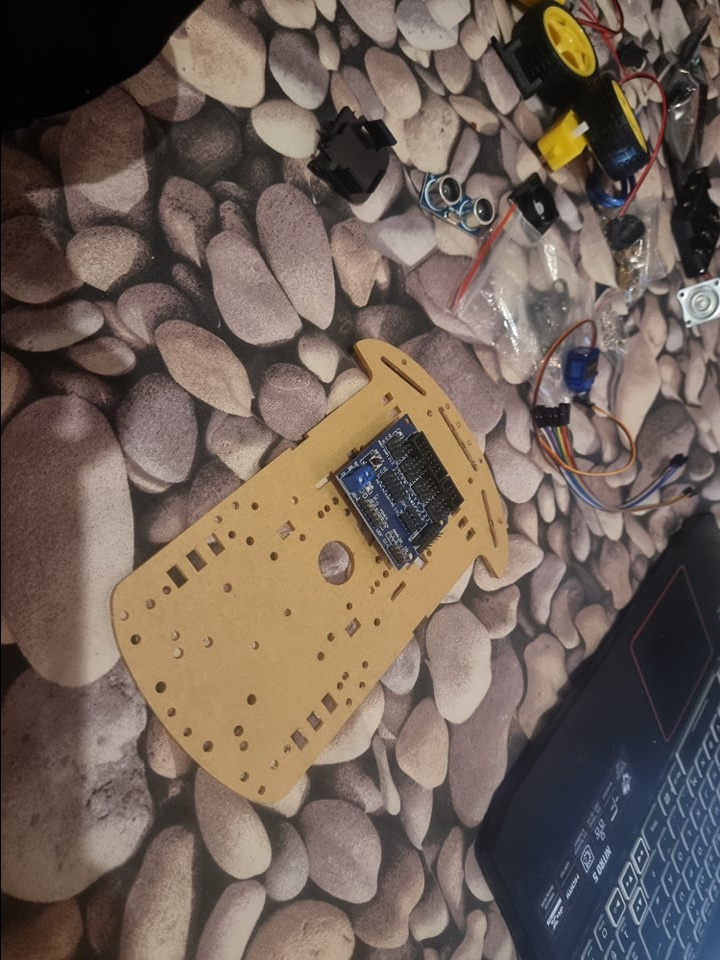5V EXPANSION: (335, 410, 466, 571)
BATTERY BOX: (666, 164, 719, 277)
SENSOR: (421, 173, 494, 235)
